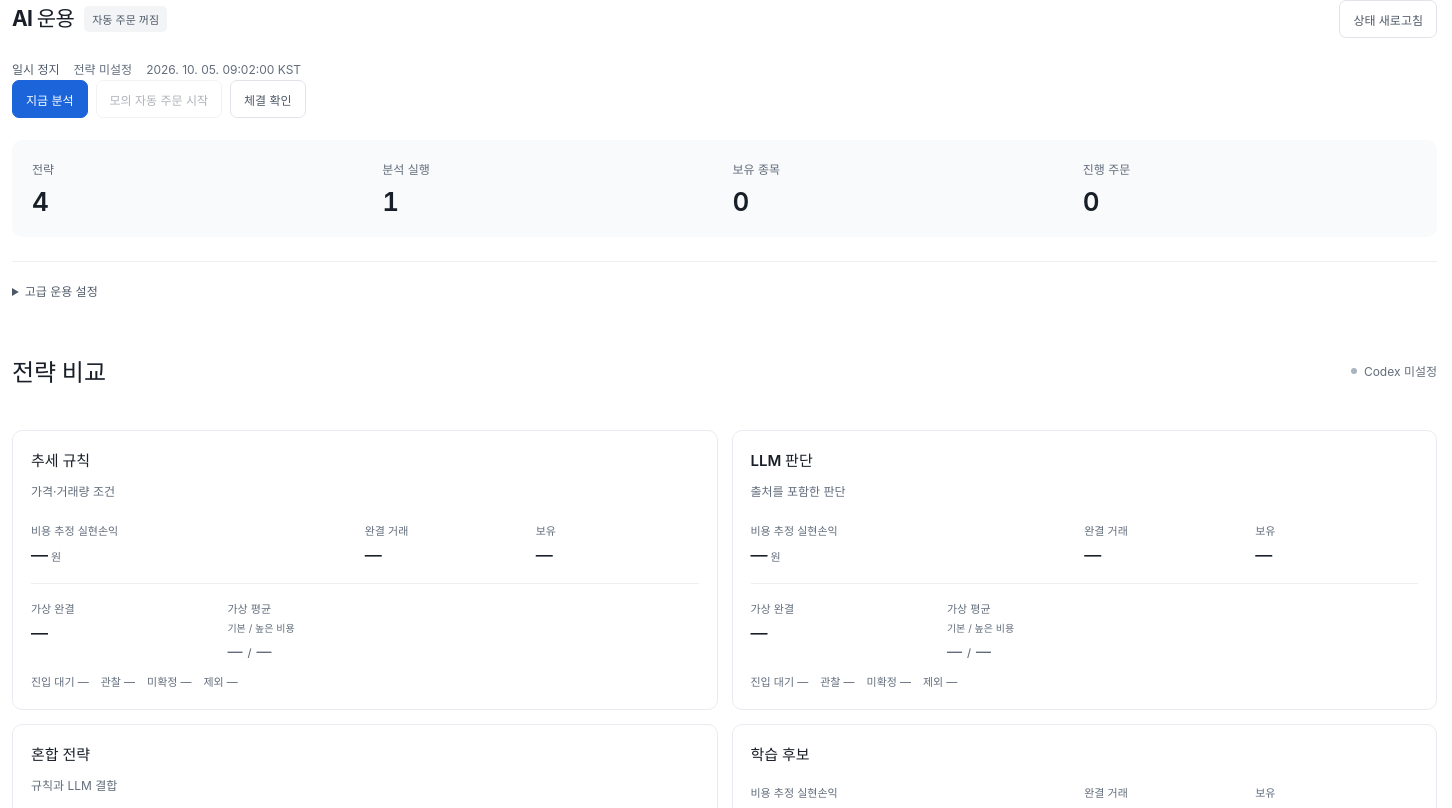
it: experiment lab › keeps learned strategies available for analysis filtering but not standalone execution
Click the heading "고급 운용 설정".
click(55, 292)  # box [12,282,98,302]
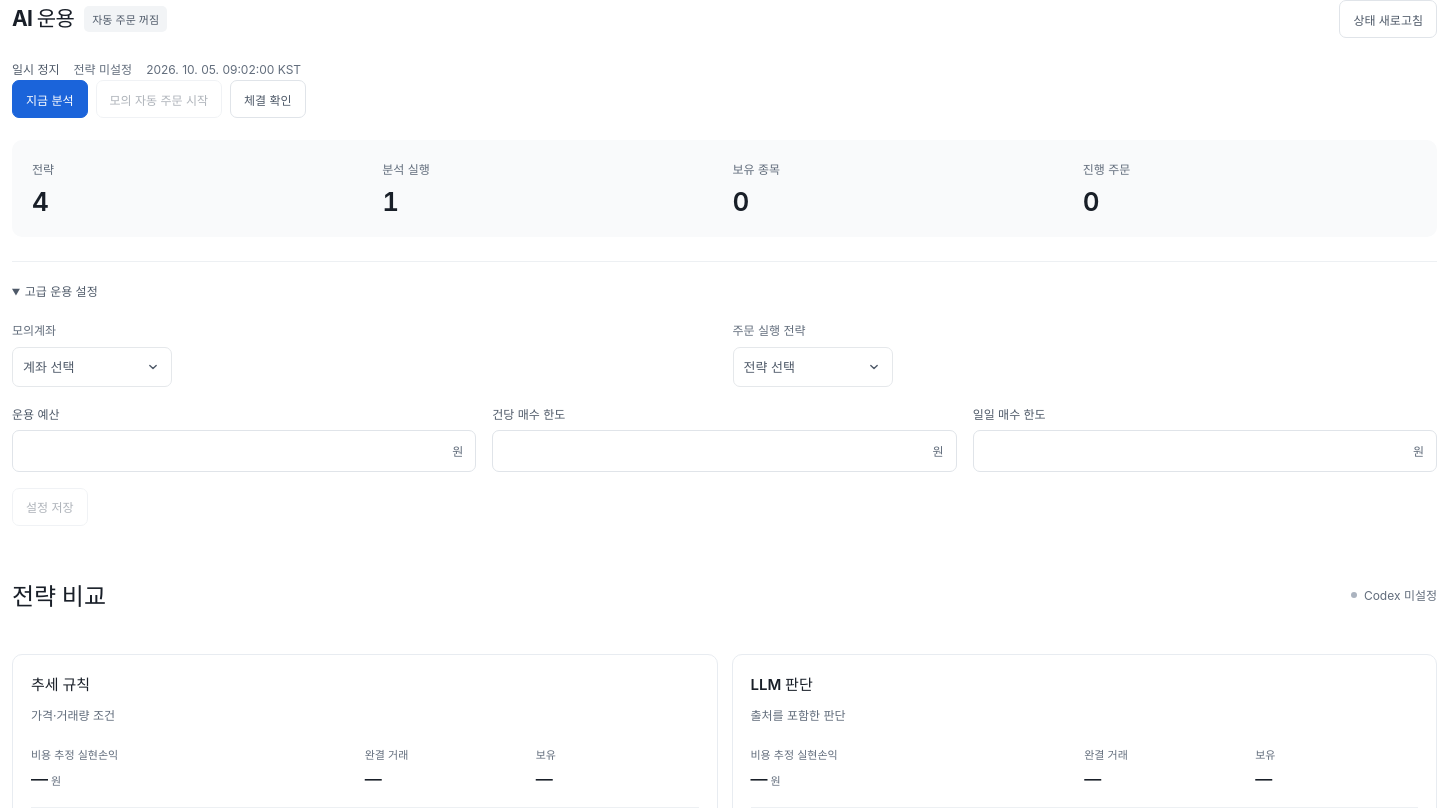
Click the dropdown named "주문 실행 전략".
click(812, 367)  # box [732,347,892,387]
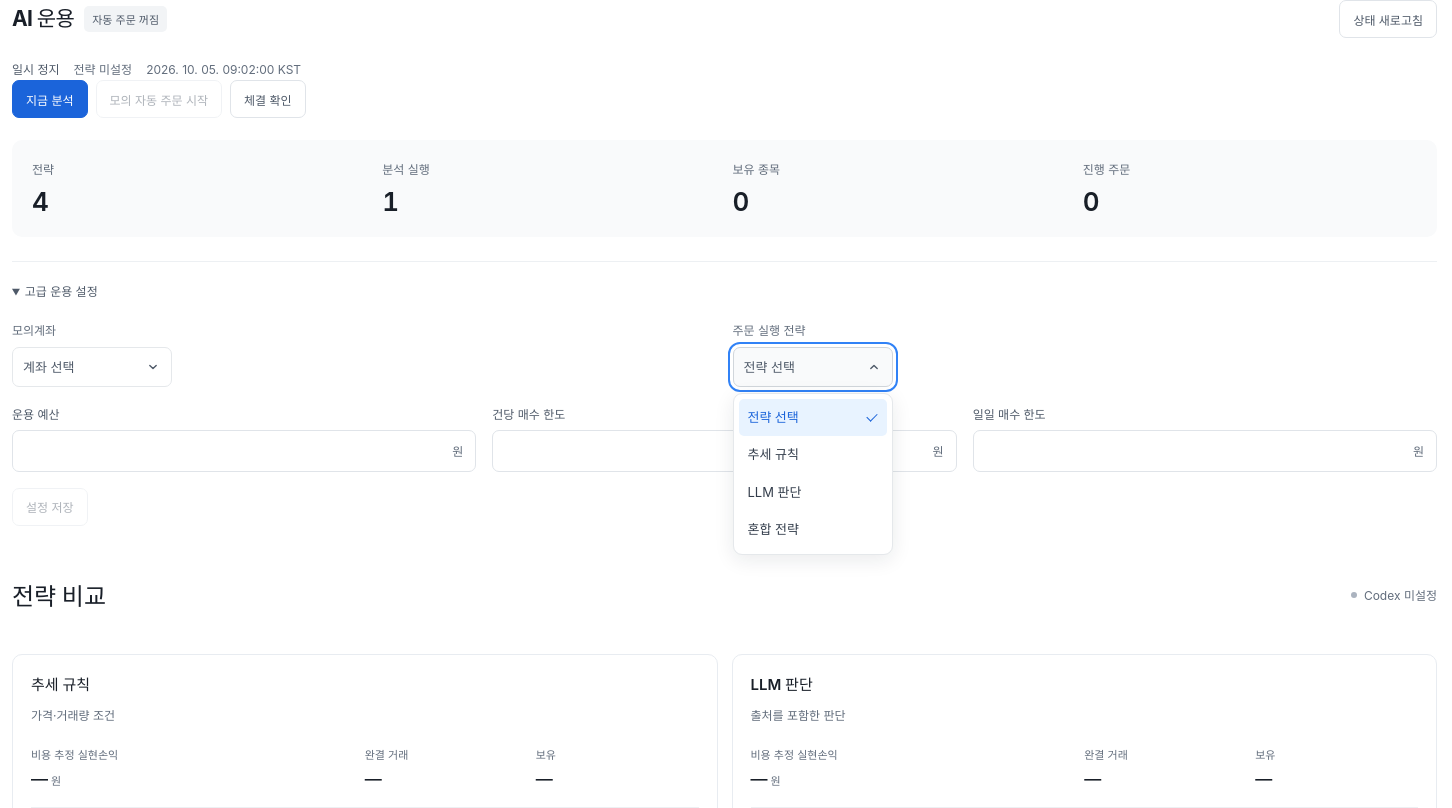
Expected: the option "학습 후보" is not shown
Press Escape
(page scrolled)
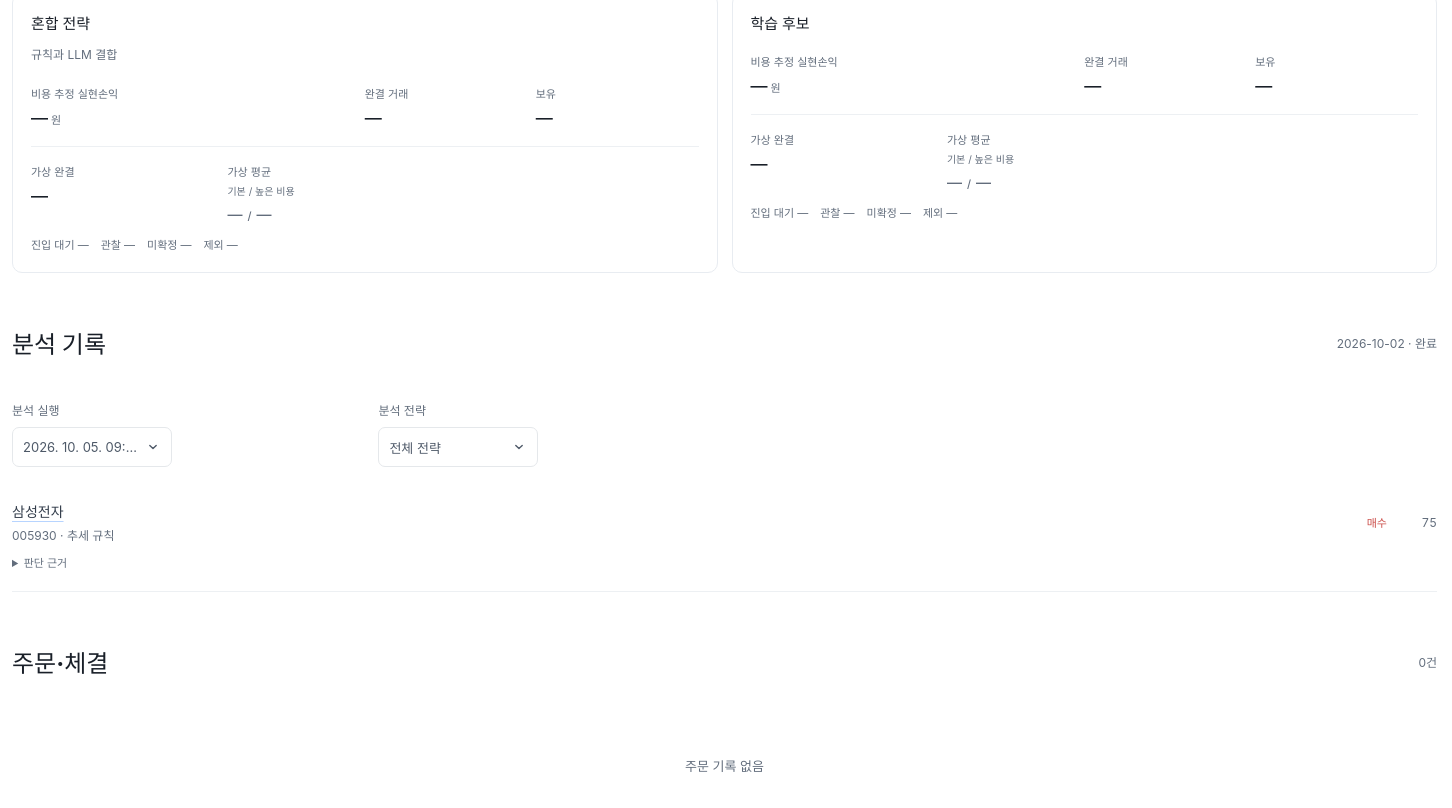
Click the dropdown named "분석 전략".
click(458, 447)  # box [378,427,538,467]
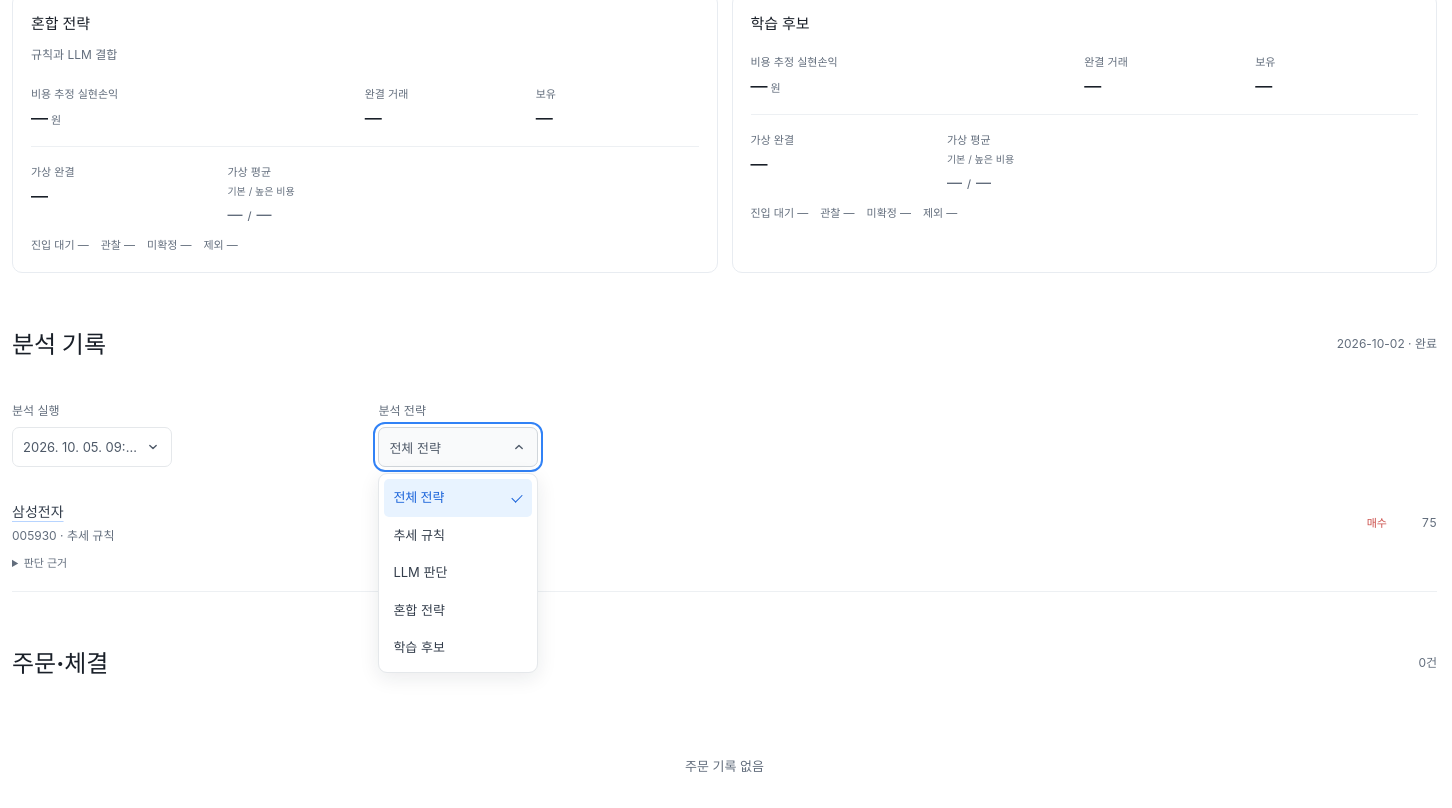
Now the option "학습 후보" is shown, box [393,639,445,655]
